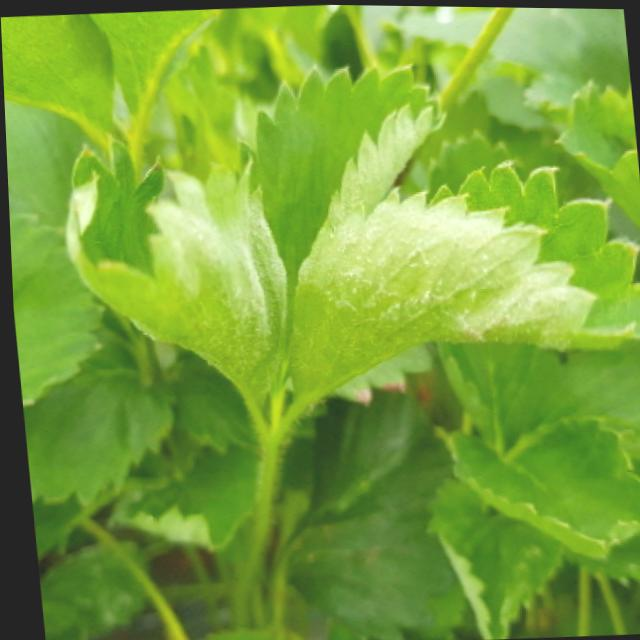Powdery Mildew Leaf: (283, 155, 640, 400), (59, 135, 284, 407), (249, 57, 447, 301)
